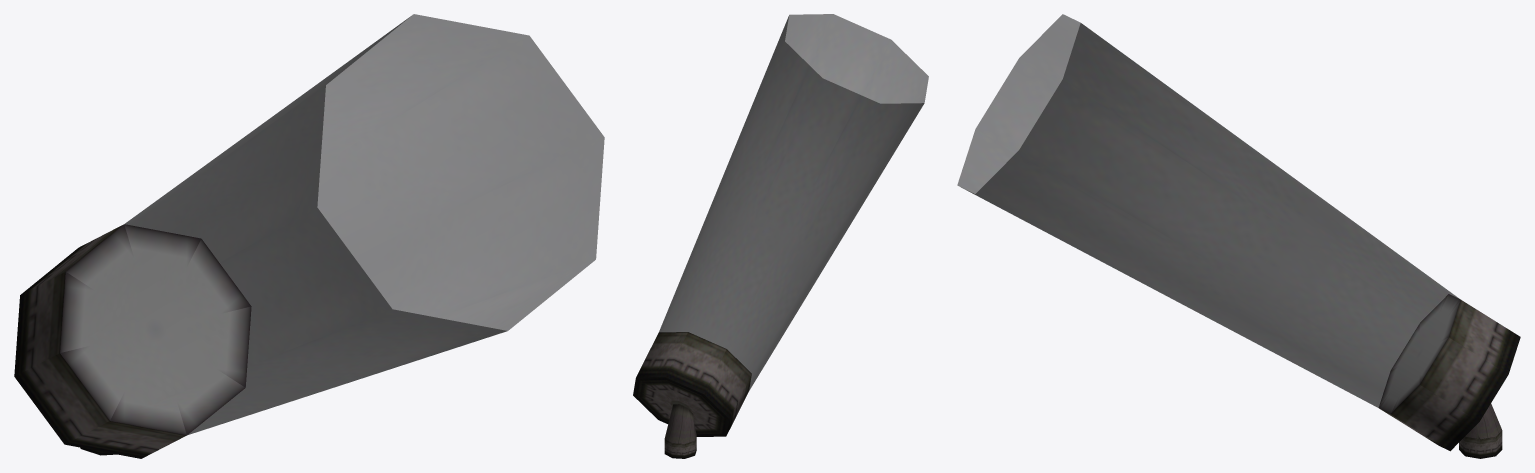
The model's file is prop-064.glb.
3 views of the same model, side by side, from view 1: azimuth 30°, elevation 25°; view 2: azimuth 150°, elevation 25°; view 3: azimuth 270°, elevation 25° (orthographic). The views are drawn at different scales.
Visible parts, largest first — view 1: root; view 2: root; view 3: root.
Boxes of the visible parts, bbox=[...] form: root: bbox=[14, 14, 604, 458]; root: bbox=[633, 14, 928, 458]; root: bbox=[957, 14, 1520, 458].
Size of the model in its own units: 1.89 by 4.09 by 4.89.
3 materials, 3 textured.
